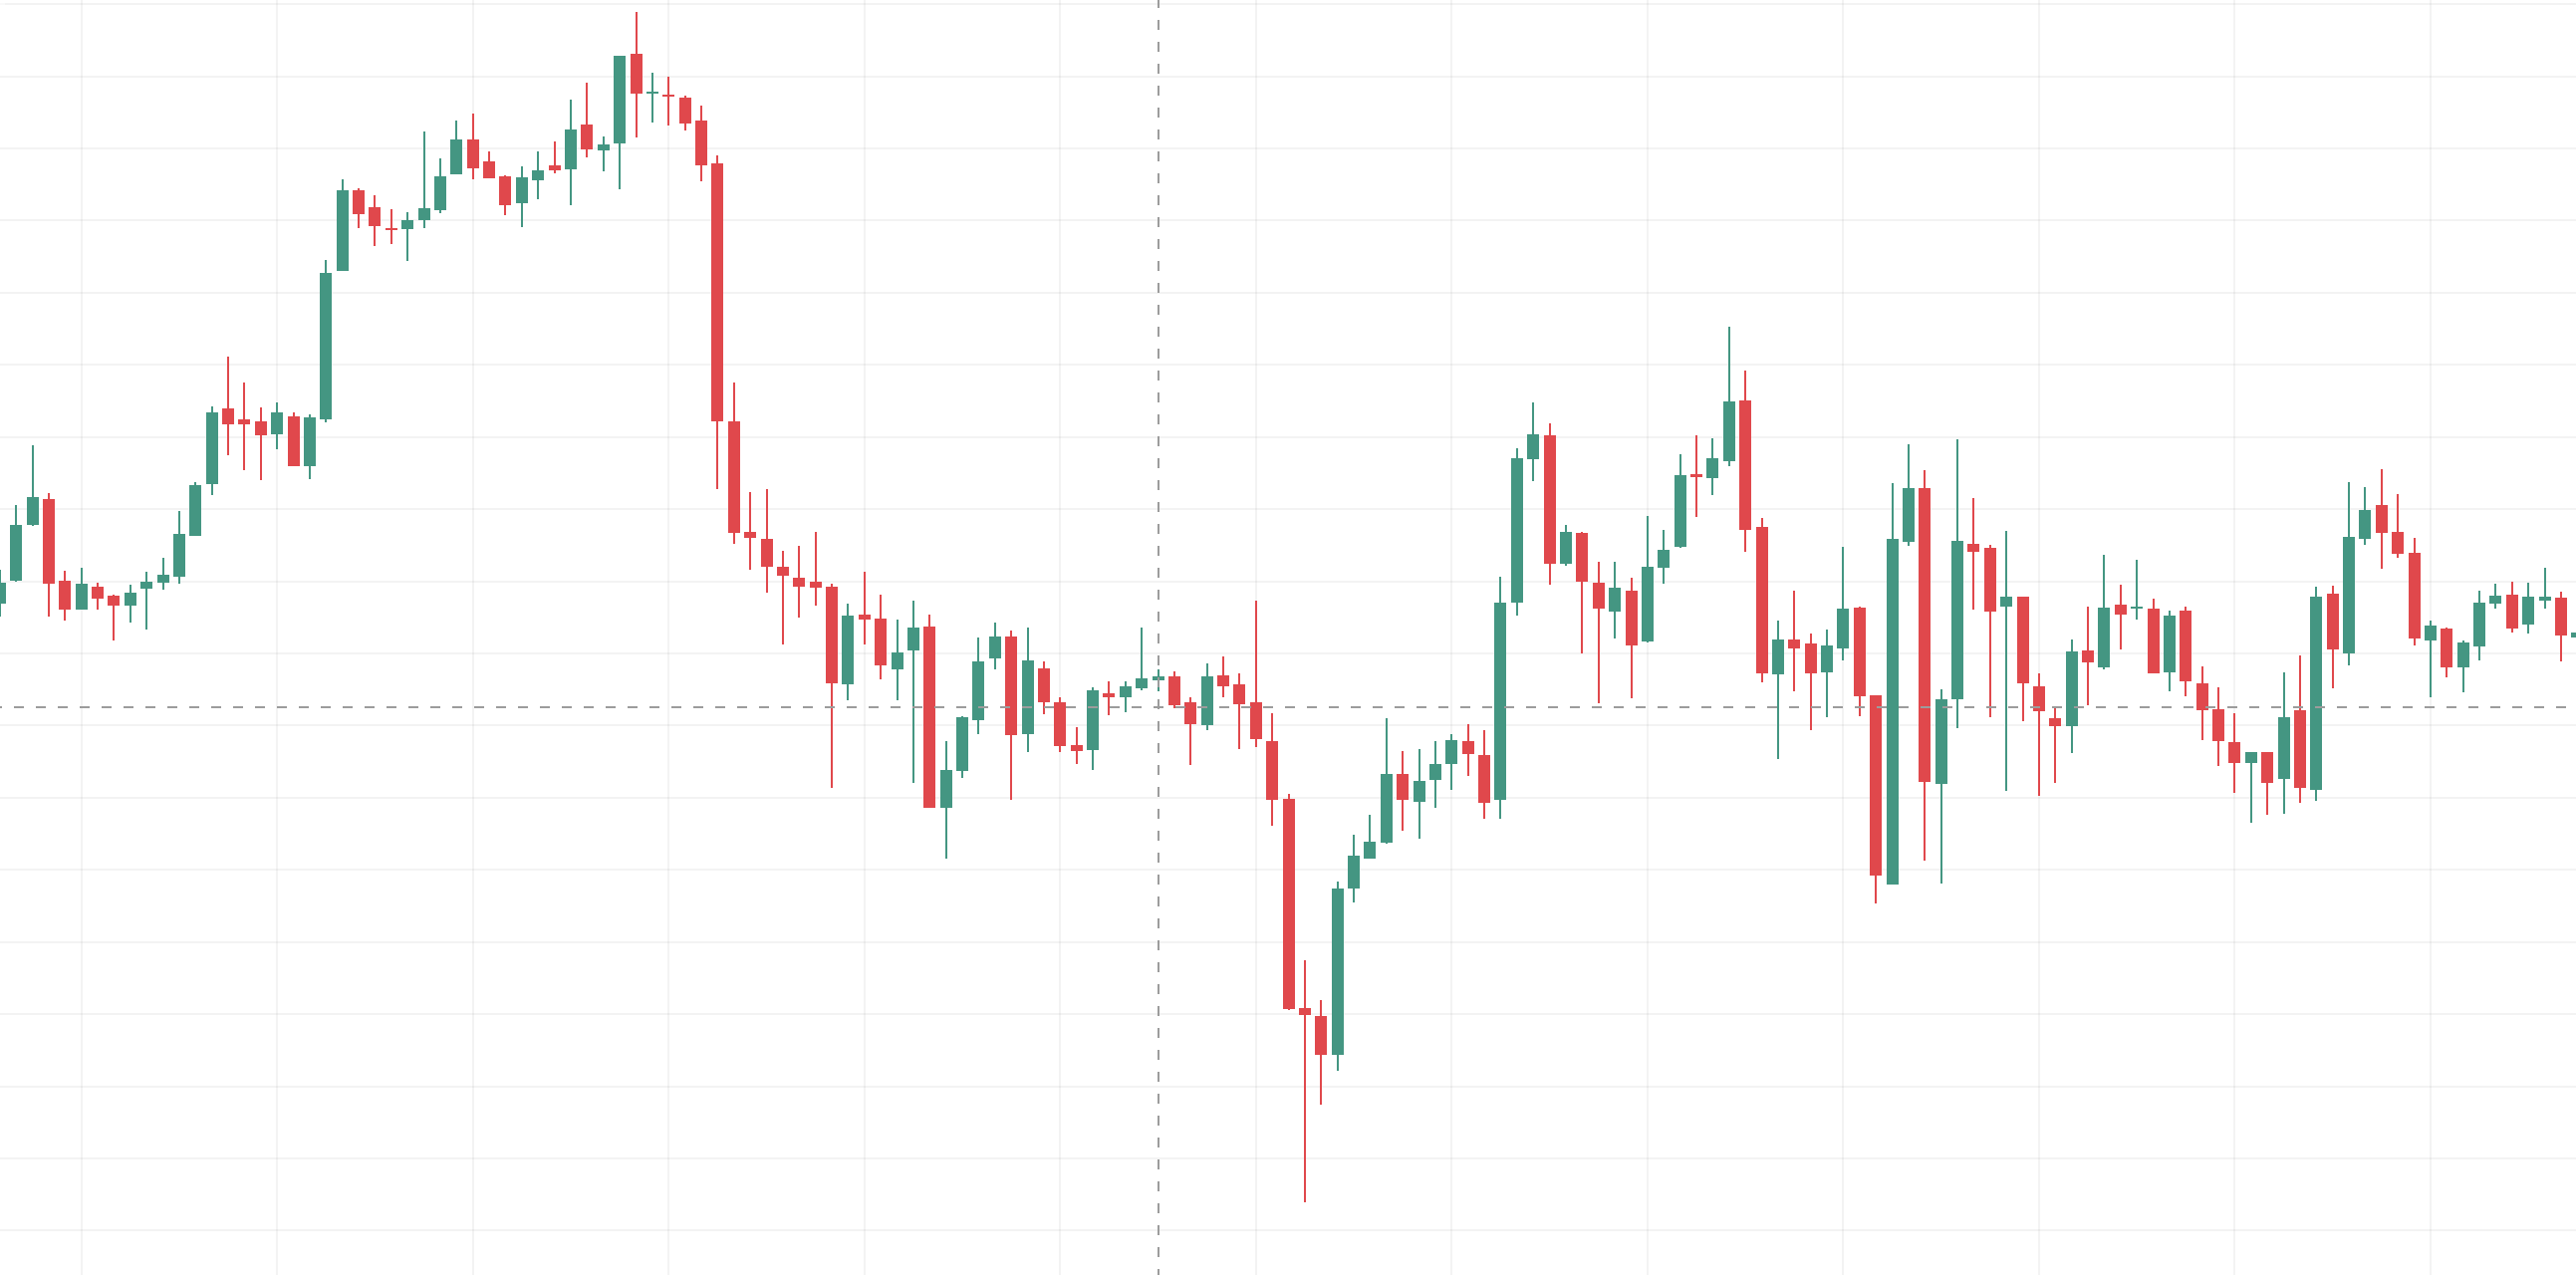V-turn: (669, 49, 1549, 1226)
